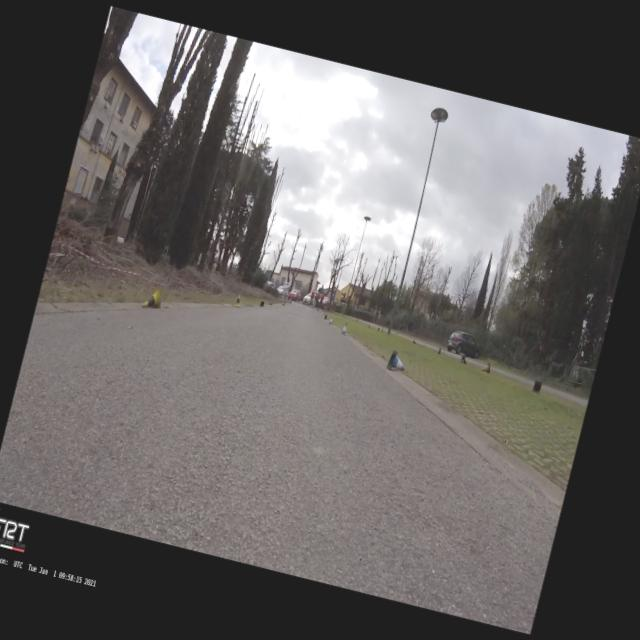blue_cone: (386, 349, 408, 373), (339, 320, 350, 336), (328, 316, 332, 325)
unknown_cone: (531, 380, 542, 394), (481, 362, 492, 374), (460, 355, 468, 364), (436, 346, 442, 354), (259, 300, 264, 308), (268, 300, 272, 306), (412, 339, 416, 344), (324, 315, 328, 320)
yellow_cone: (141, 286, 164, 312), (232, 292, 243, 308)
